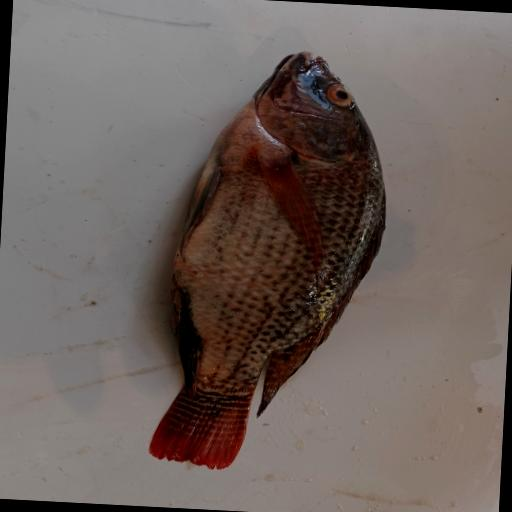Tilapia: (147, 44, 394, 479)
